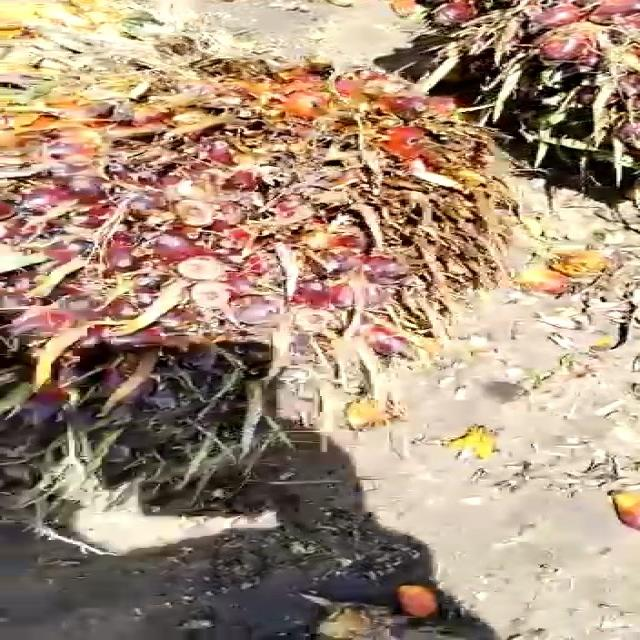palm oil: (0, 13, 503, 559)
